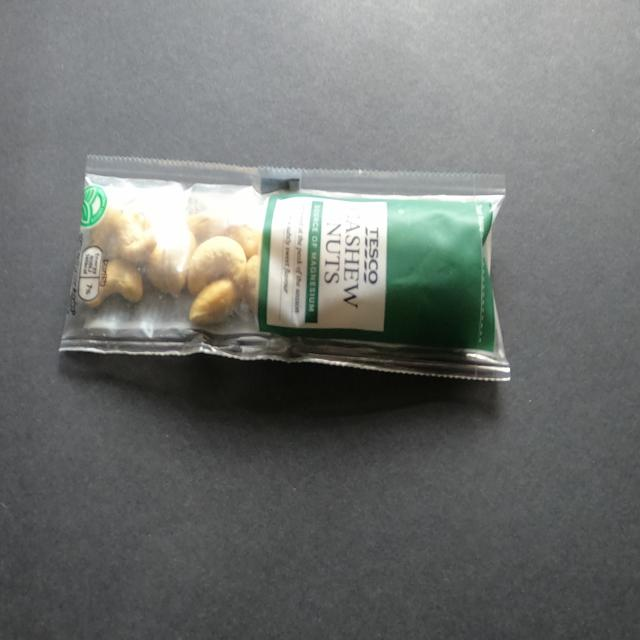Cashewnut: (44, 121, 527, 418)
